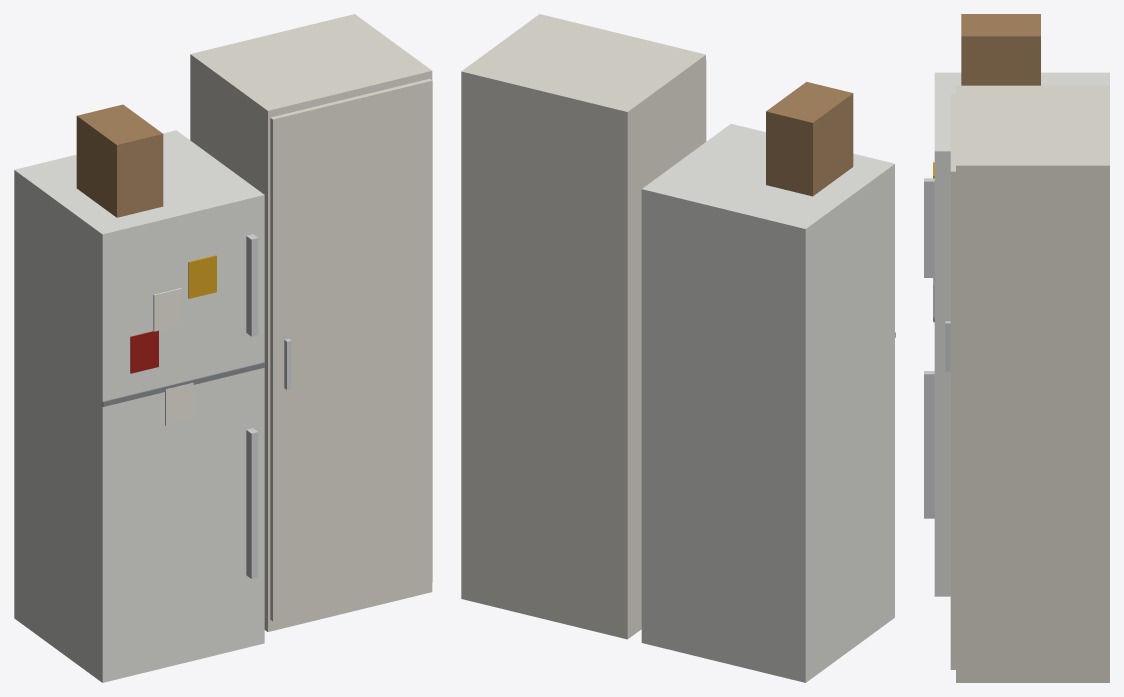
The model's file is kitchen_fridge.glb.
3 renders of one model, left to right at view 1: azimuth 30°, elevation 25°; view 2: azimuth 150°, elevation 25°; view 3: azimuth 270°, elevation 25°, orthographic.
Parts seen in each view (by area): view 1: kitchen_fridge; view 2: kitchen_fridge; view 3: kitchen_fridge.
Part boxes in pixels (x1=…): kitchen_fridge: x1=14, y1=14, x2=432, y2=682; kitchen_fridge: x1=461, y1=14, x2=895, y2=682; kitchen_fridge: x1=924, y1=14, x2=1109, y2=682.
Bounding box in the file's own units: 1.47 × 2.15 × 0.7.
Materials: 1 (1 with a texture image).
